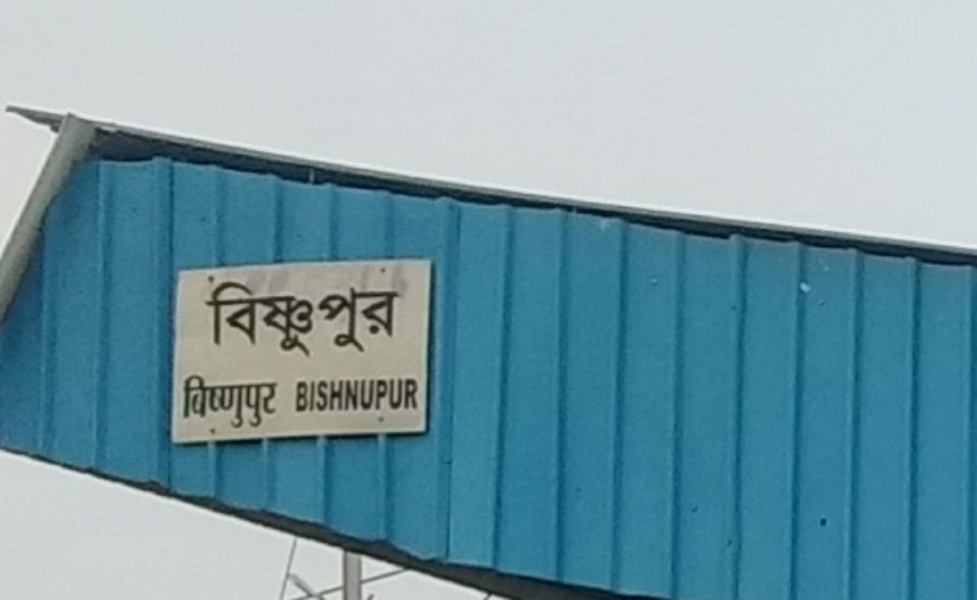text: (209, 271, 224, 356), (225, 271, 240, 356), (241, 271, 256, 356), (257, 271, 272, 356), (273, 271, 288, 356), (289, 271, 304, 356), (305, 271, 320, 356), (321, 271, 336, 356), (337, 271, 352, 356), (353, 271, 368, 356), (369, 271, 384, 356), (385, 271, 400, 356), (193, 366, 208, 432), (209, 366, 224, 432), (225, 366, 240, 432), (241, 366, 256, 432), (257, 366, 272, 432), (180, 366, 192, 432), (289, 367, 304, 417), (305, 367, 320, 417), (321, 367, 336, 417), (337, 367, 352, 417), (353, 367, 368, 417), (369, 367, 384, 417), (385, 367, 400, 417), (401, 367, 416, 417), (200, 271, 208, 356), (273, 366, 281, 432), (401, 271, 405, 356), (417, 367, 422, 417)
